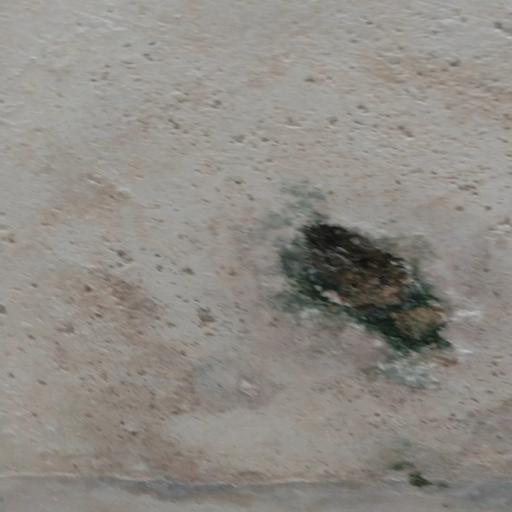algae: (242, 173, 482, 389)
